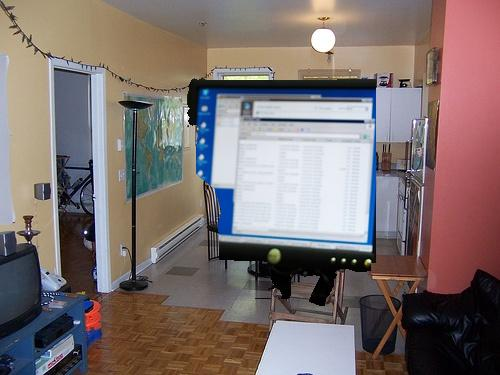tampered: (188, 79, 376, 306)
